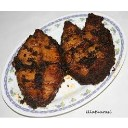seerfish: (60, 13, 115, 82), (16, 30, 61, 107)
